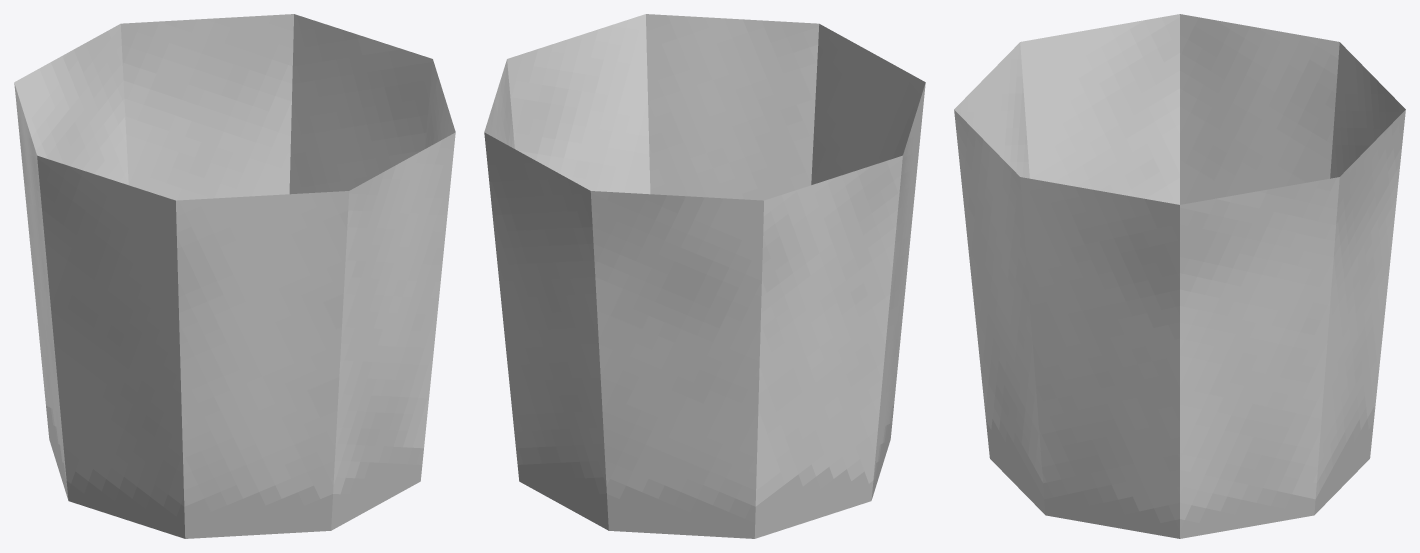
Rendered from whisky-glass.glb.
The picture shows the model from 3 angles, left to right: view 1: azimuth 30°, elevation 25°; view 2: azimuth 150°, elevation 25°; view 3: azimuth 270°, elevation 25°; orthographic projection.
Visible parts, largest first — view 1: Circle; view 2: Circle; view 3: Circle.
Boxes of the visible parts, <box> form: Circle: <box>14,14,455,538</box>; Circle: <box>484,14,925,538</box>; Circle: <box>954,14,1405,538</box>.
Size of the model in its own units: 0.0891 by 0.0759 by 0.0891.
2 materials, 1 textured.
